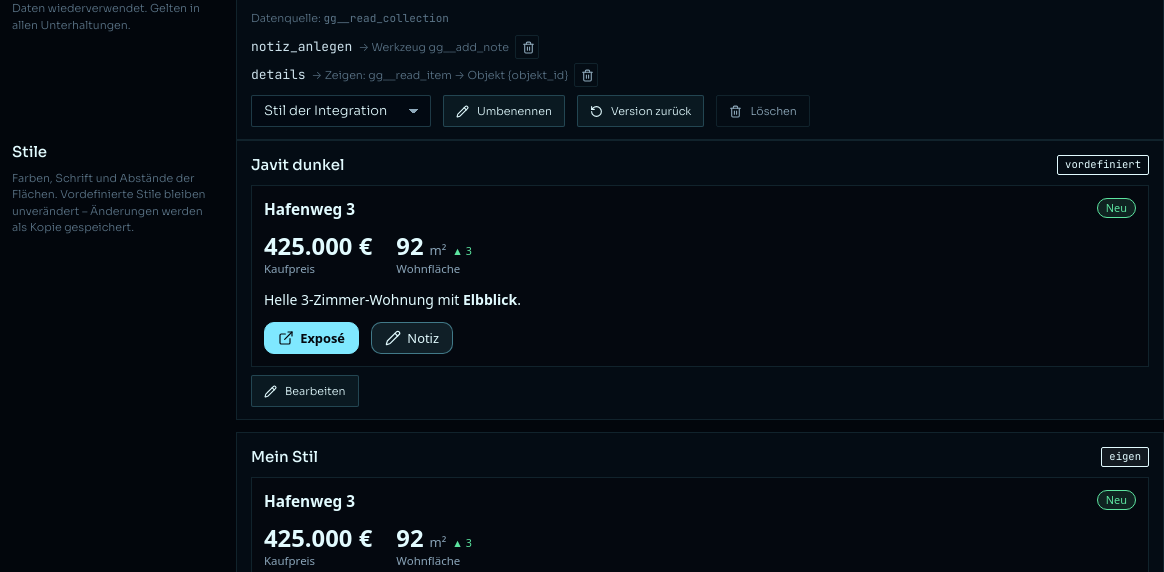
Test: Einstellungen → Bühne › Stil bearbeiten: Farbwähler und Hex, Kontrastprüfung, Speichern per PUT
The width and height of the screenshot is (1164, 572).
Check: the text "vordefiniert" is shown, box x1=1057 y1=155 x2=1149 y2=175
Check: the element named "Vorschau Javit dunkel" is shown, box x1=251 y1=185 x2=1149 y2=367
Step 1. Click the button "Bearbeiten" → (305, 391), box x1=251 y1=375 x2=358 y2=407
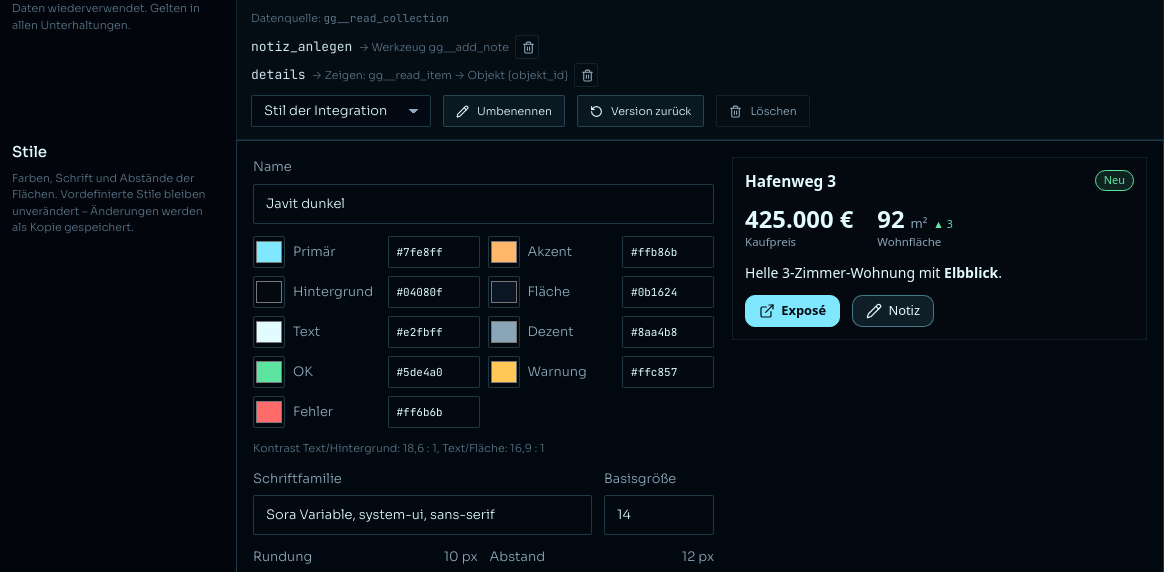
Step 2. Replace the text in the field named "Primär (Hex)" with "#123456" → (434, 252), box x1=388 y1=236 x2=480 y2=268
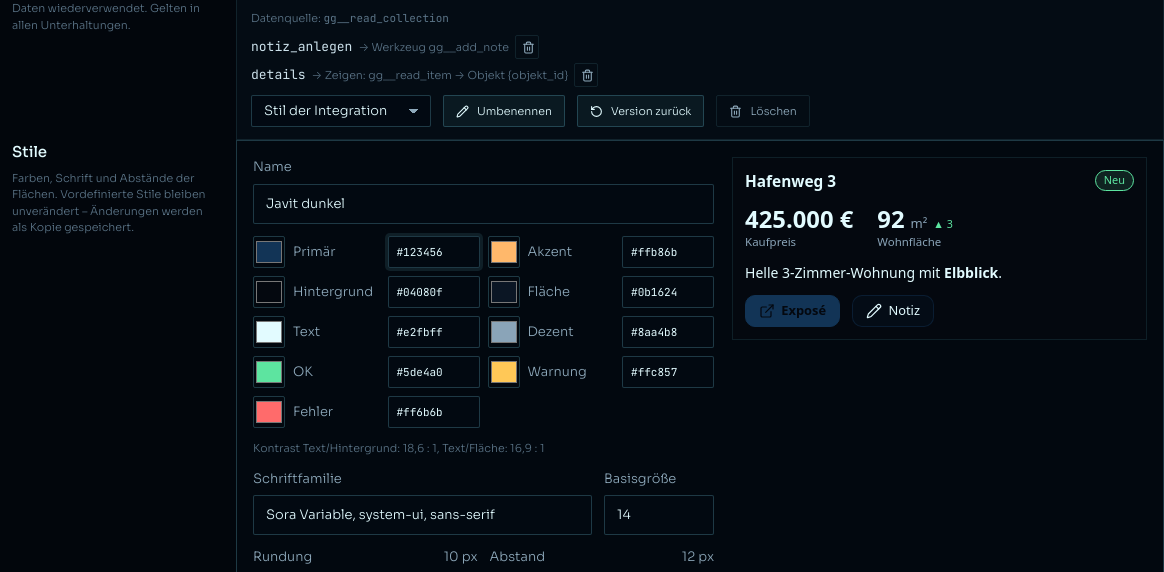
Check: the text "unter 4,5" is not shown
Check: the text "Kontrast Text/Hintergrund: 18,6 : 1, Text/Fläche: 16,9 : 1" is shown, box x1=253 y1=441 x2=544 y2=455
Check: the colour field named "Primär (Farbwähler)" holds "#123456", box x1=253 y1=236 x2=285 y2=268
Step 3. Replace the text in the field named "Text (Hex)" with "#101820" → (434, 332), box x1=388 y1=316 x2=480 y2=348
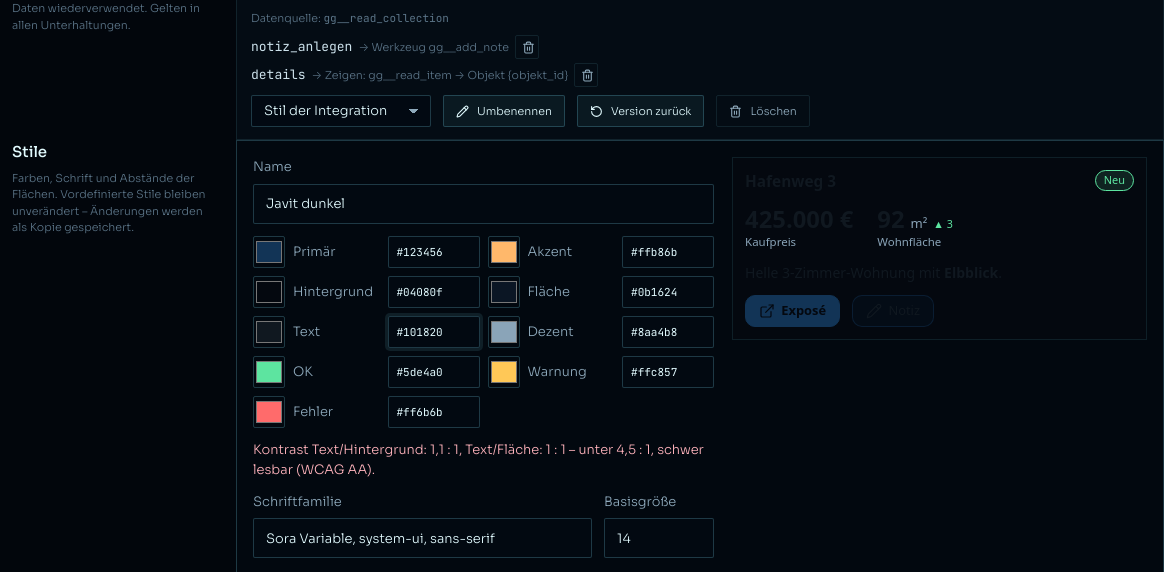
Check: the text "unter 4,5" is shown, box x1=253 y1=441 x2=704 y2=478
Step 4. Replace the text in the field named "Text (Hex)" with "#e2fbff" → (434, 332), box x1=388 y1=316 x2=480 y2=348
(page scrolled)
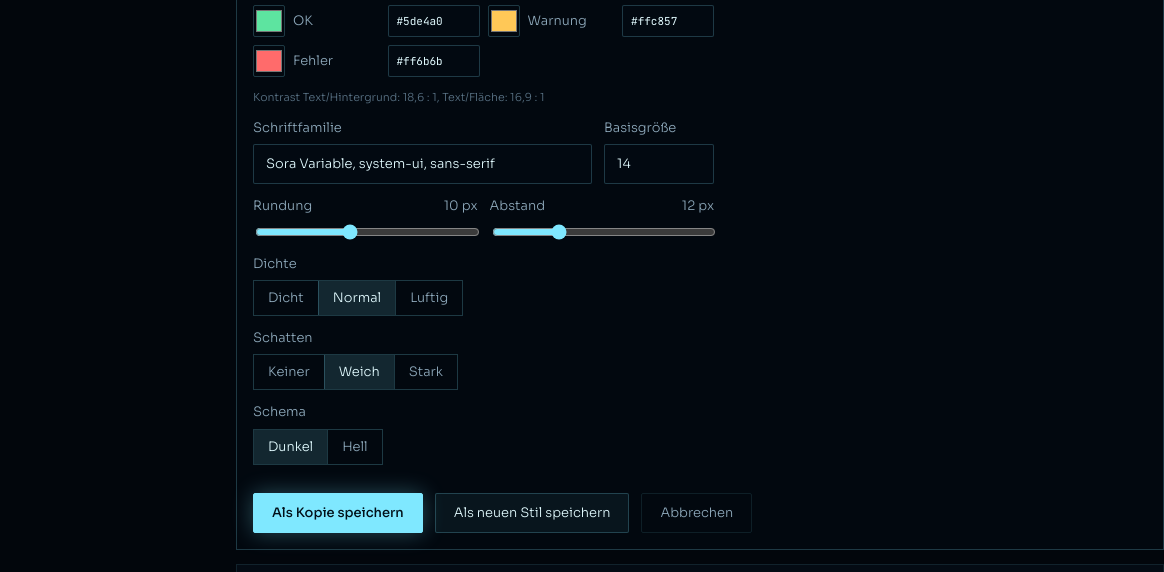
Step 5. Click the radio button labelled "Dicht" → (286, 298), box x1=254 y1=281 x2=318 y2=315
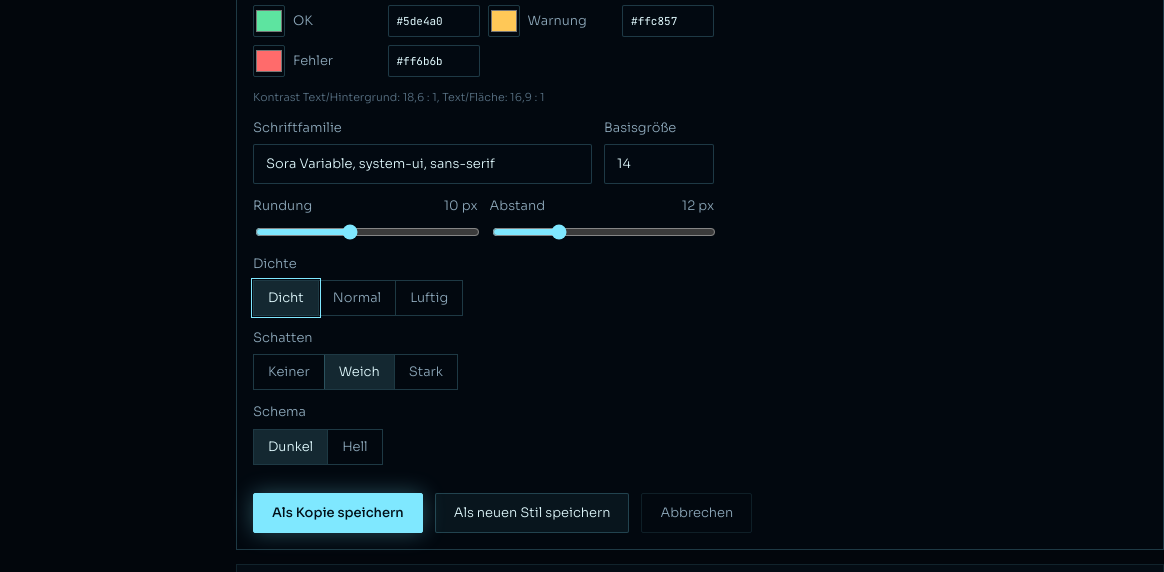
Step 6. Click the button "Als Kopie speichern" → (338, 513), box x1=253 y1=493 x2=423 y2=533
(page scrolled)
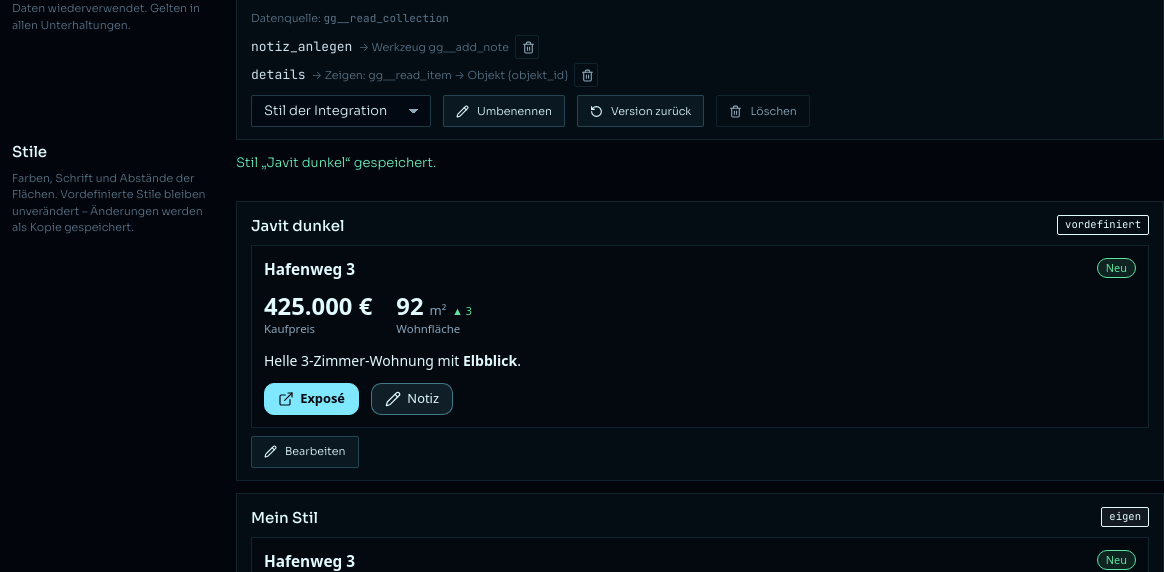
Check: the text "Stil „Javit dunkel“ gespeichert." is shown, box x1=236 y1=154 x2=436 y2=171
